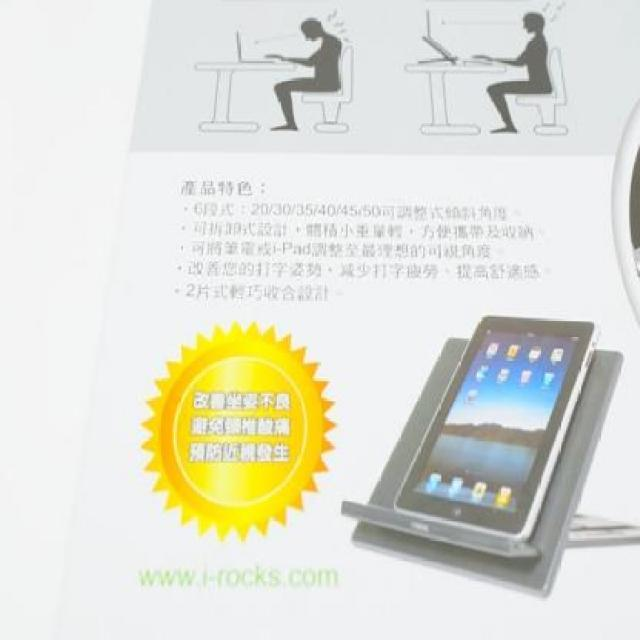phone: (389, 319, 601, 547)
